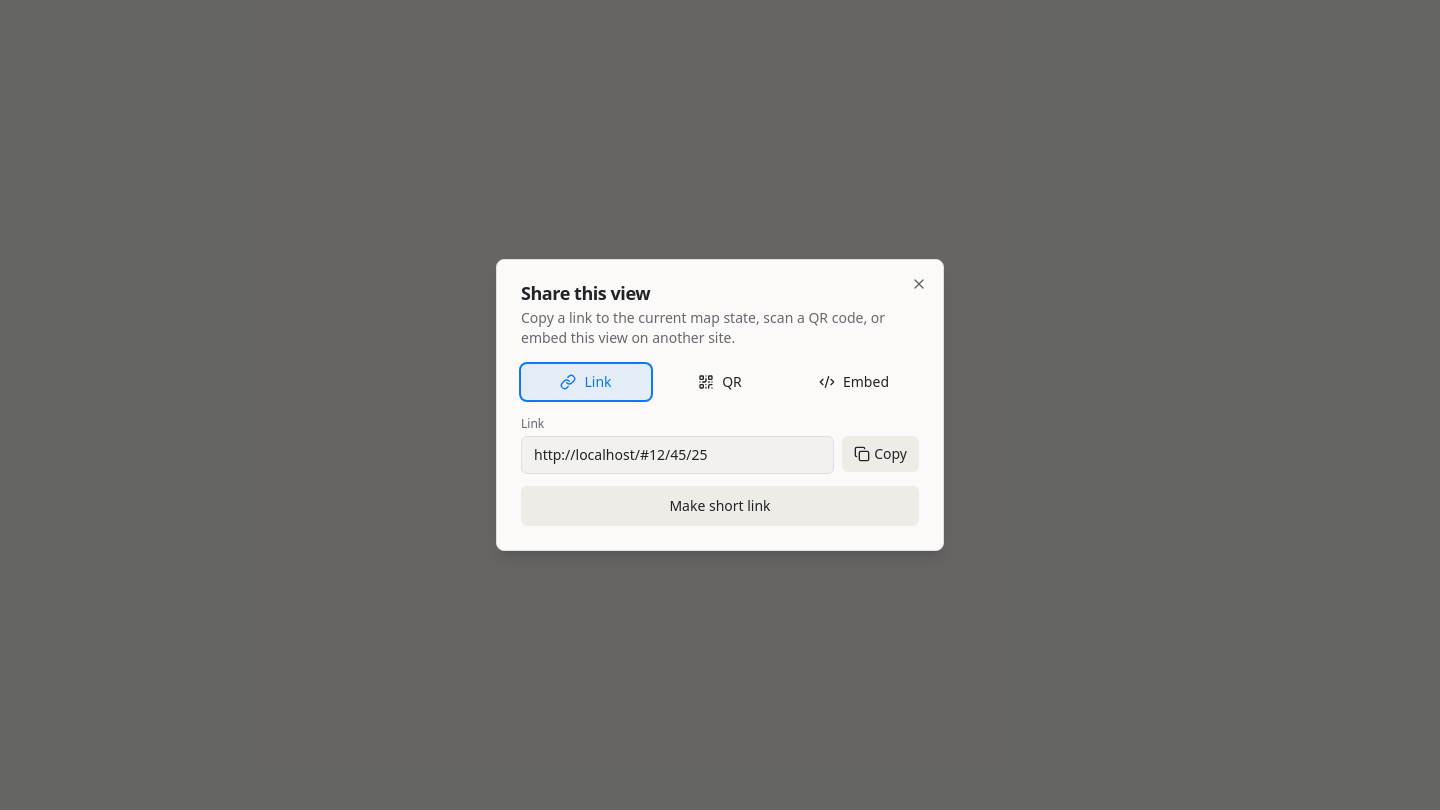
Test: <ShareDialog /> › posts to /api/links and reveals the short URL on success
The width and height of the screenshot is (1440, 810).
Click the button "Make short link" at coordinates (720, 506), box [521,486,919,526]
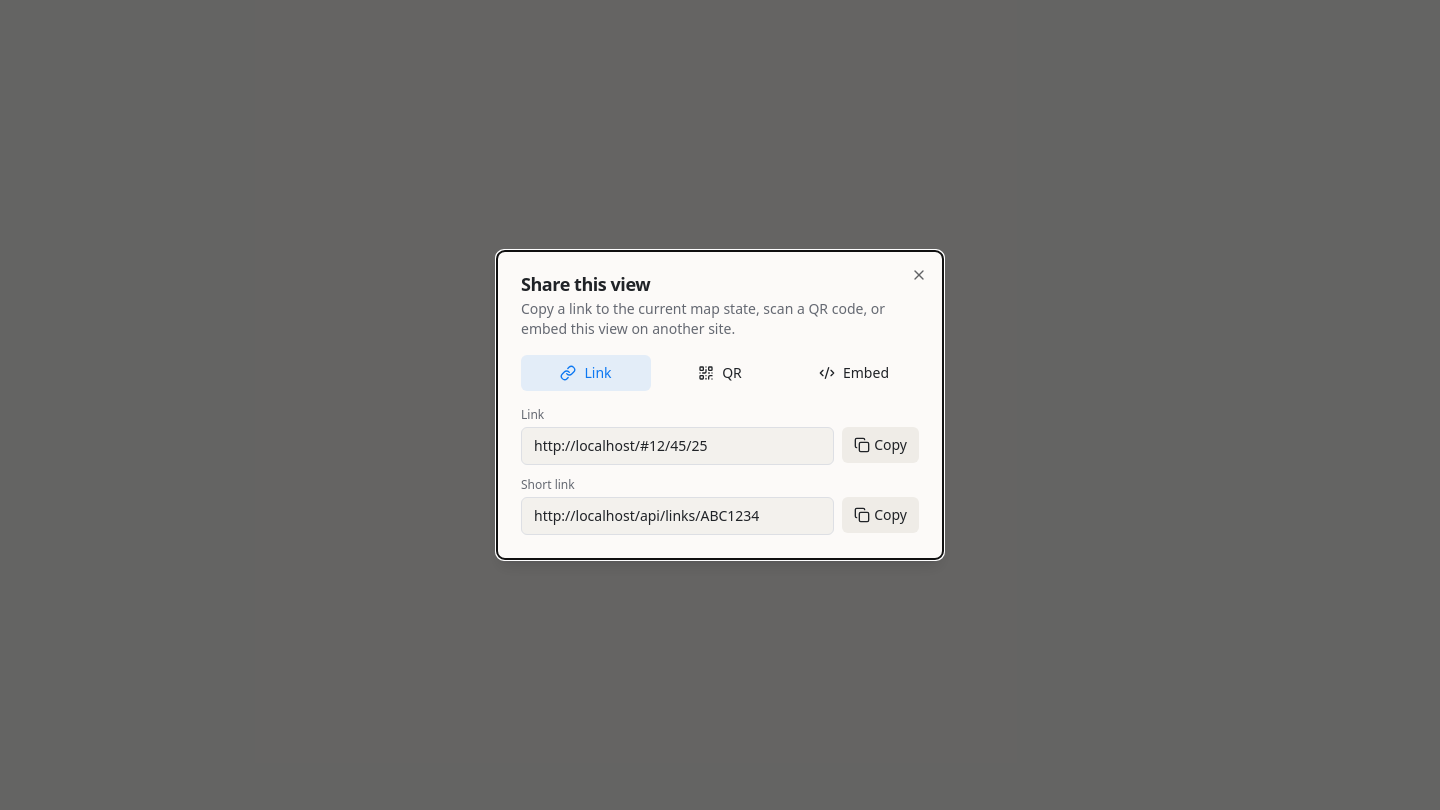
Now the field named "Short link" is shown, box [521,497,834,535]
